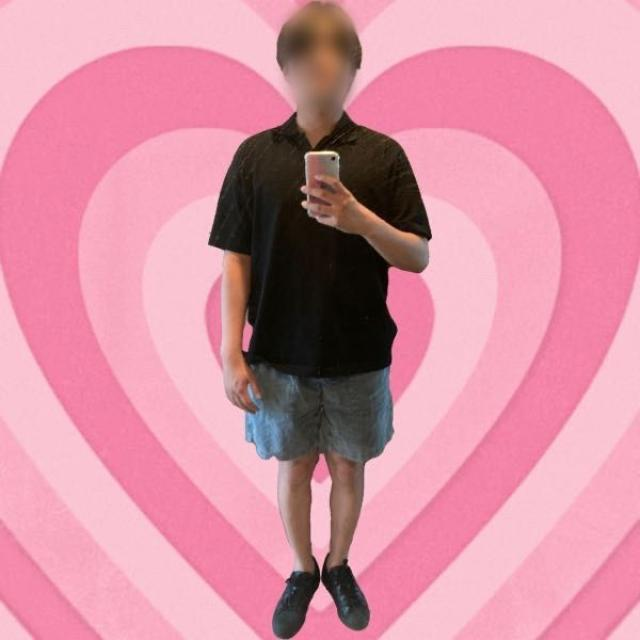shortpants: (244, 358, 396, 464)
shortsleeve: (205, 107, 434, 380)
